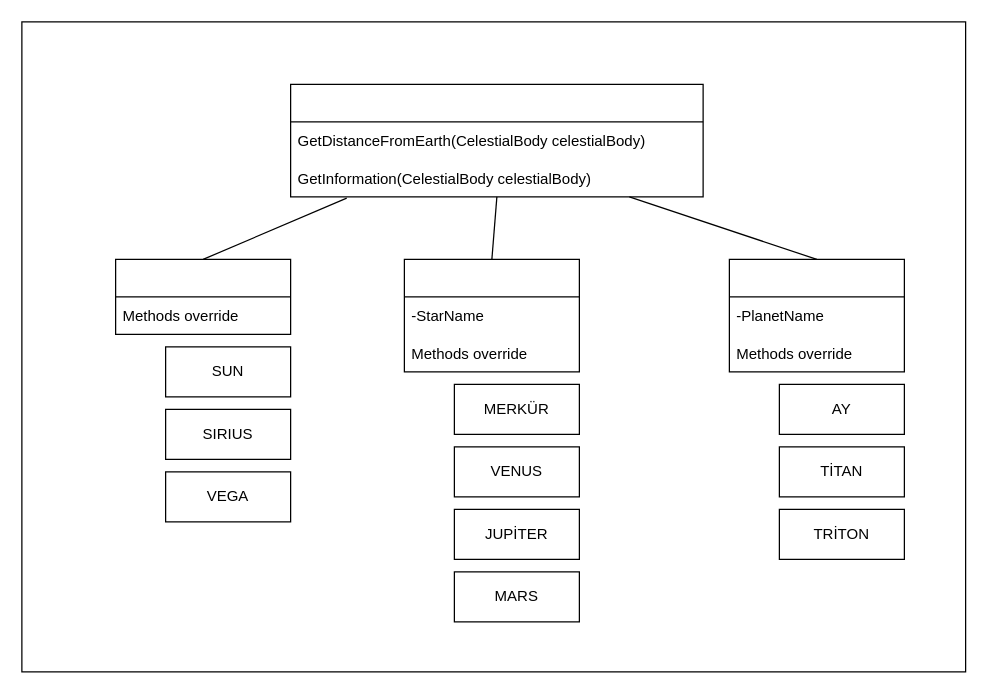
Some shapes in this 988 by 694 pixel diagram are drawn without their labels. The box of each missing label's shape, as (x1, y1, x2, y2) in pixels:
CelestialBody- Base Abstact Class: (289, 83, 703, 197)
Planet: (403, 258, 579, 372)
Satellite: (728, 258, 904, 372)
Star: (114, 258, 291, 334)
